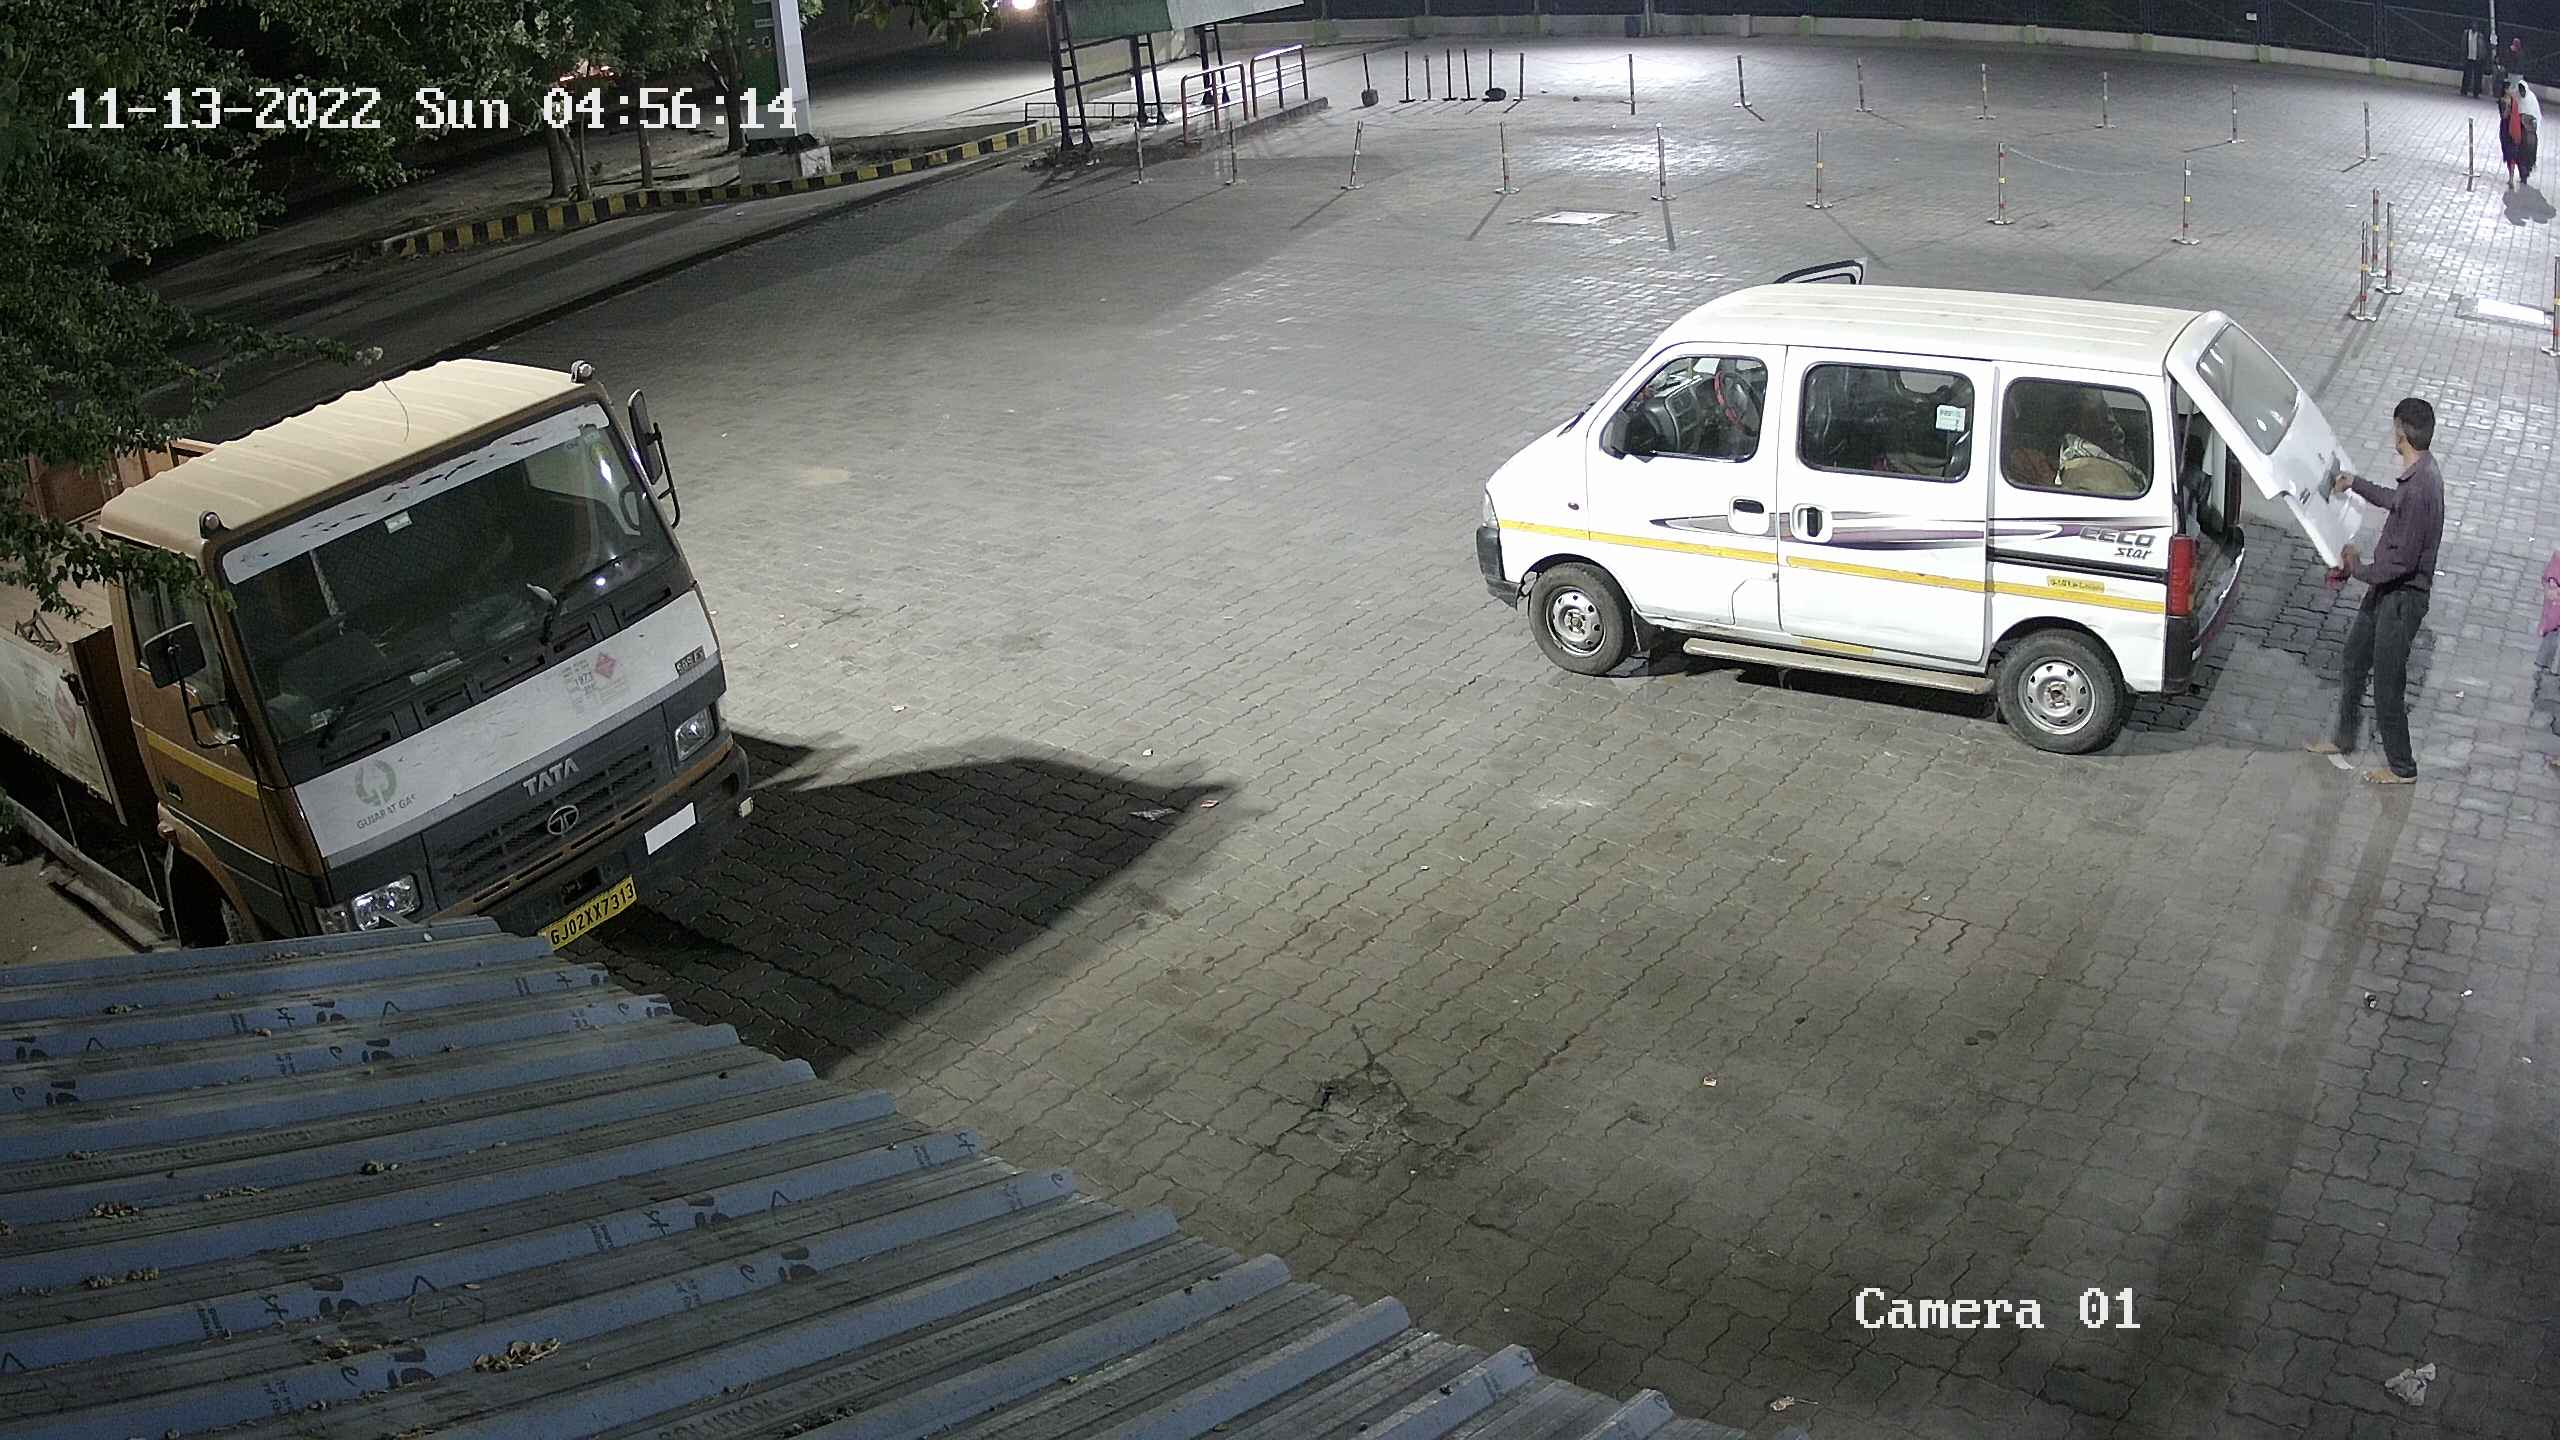Car: (1456, 251, 2382, 765)
HMV: (5, 338, 775, 969)
